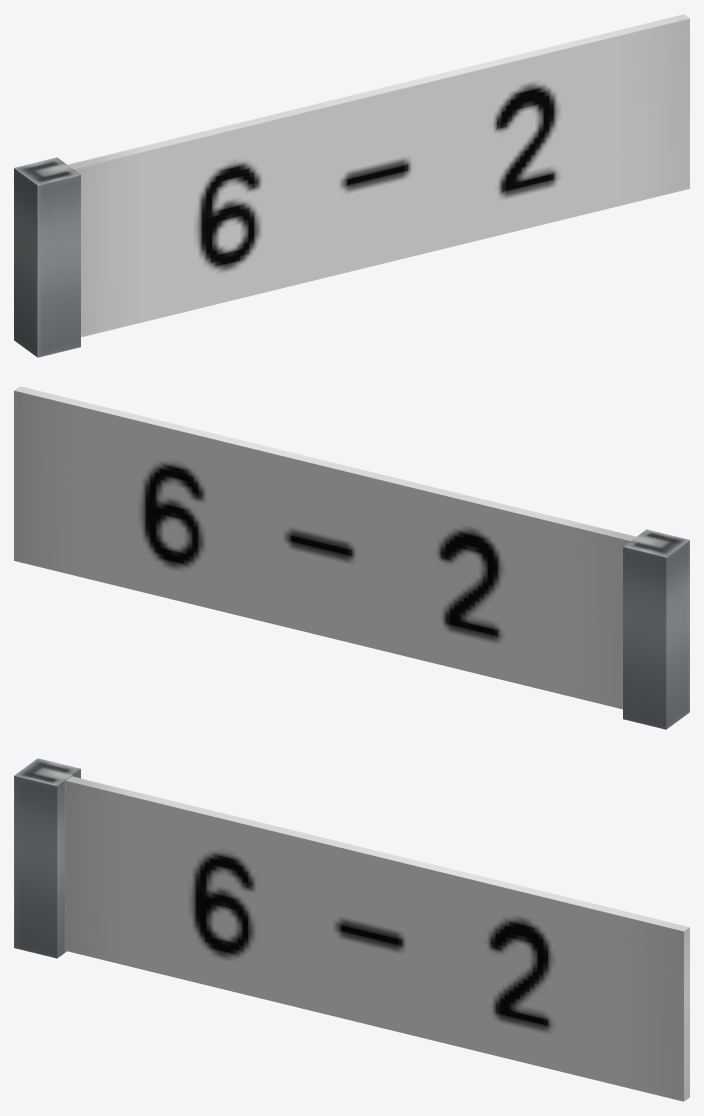
Rendered from SHW_NamePlate_01_06_02.fbx.
3 renders of one model, top to bottom at view 1: azimuth 30°, elevation 25°; view 2: azimuth 150°, elevation 25°; view 3: azimuth 330°, elevation 25°, orthographic.
Parts seen in each view (by area): view 1: shw_nameplate_01_06_02; view 2: shw_nameplate_01_06_02; view 3: shw_nameplate_01_06_02.
Part boxes in pixels (x1,y1,x2,y2): shw_nameplate_01_06_02: (14, 14, 689, 357); shw_nameplate_01_06_02: (14, 386, 689, 729); shw_nameplate_01_06_02: (14, 758, 689, 1101).
Size of the model in its own units: 32.1 by 8 by 2.
